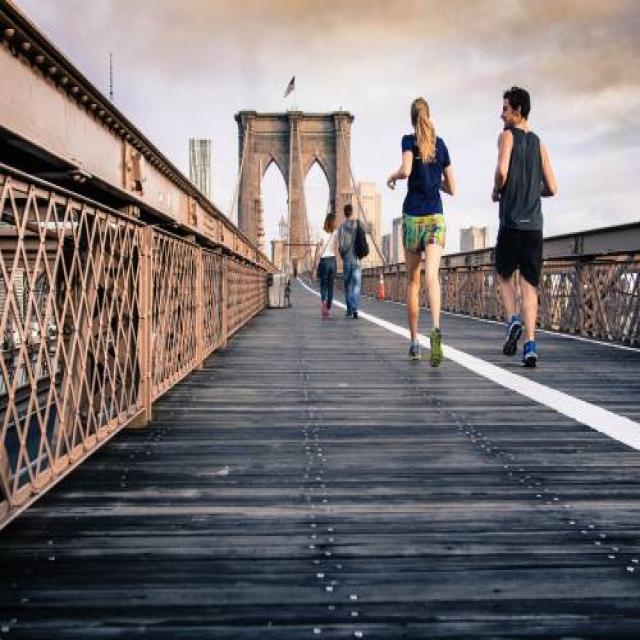running: (491, 84, 560, 372), (386, 96, 456, 368)
